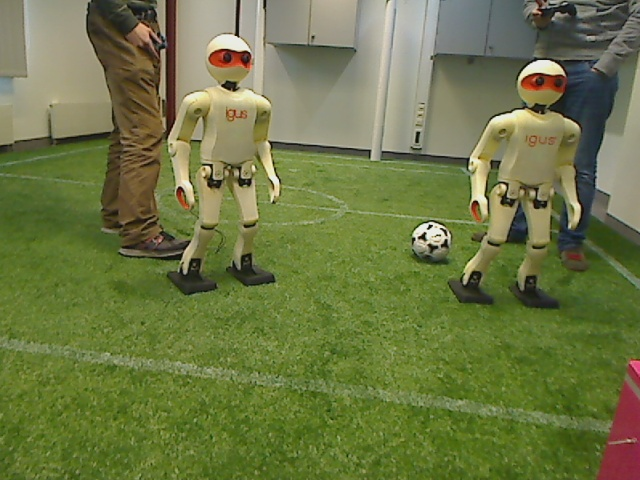ball: (402, 216, 458, 268)
robot: (157, 32, 289, 298), (458, 62, 583, 311)
